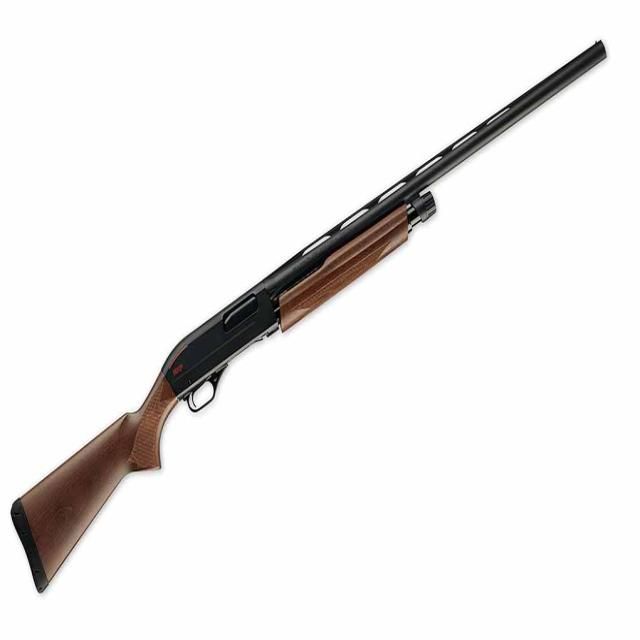ShotGun: (11, 42, 609, 594)
